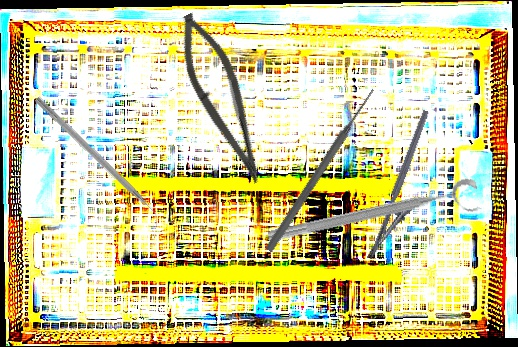Chopper: (28, 96, 166, 230)
Fixation Ring: (265, 176, 483, 260)
Micro Scissor: (163, 6, 284, 190)
Needle Holder: (366, 109, 450, 268)
Pusher: (263, 86, 379, 254)
